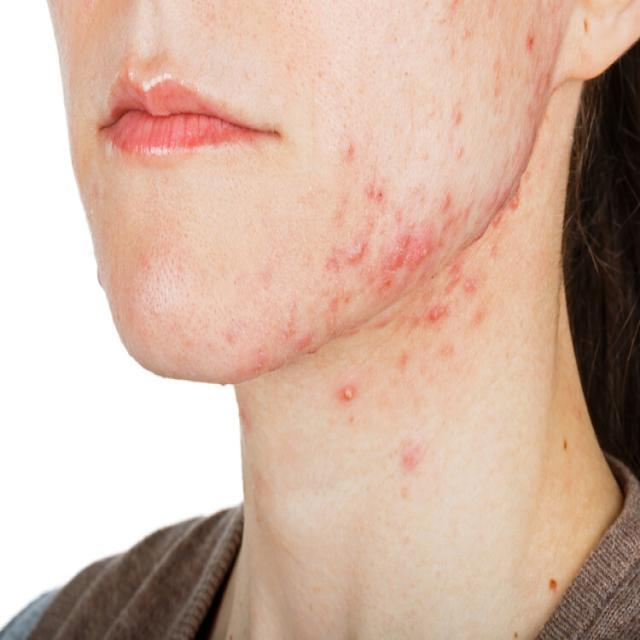acne: (288, 138, 528, 326)
